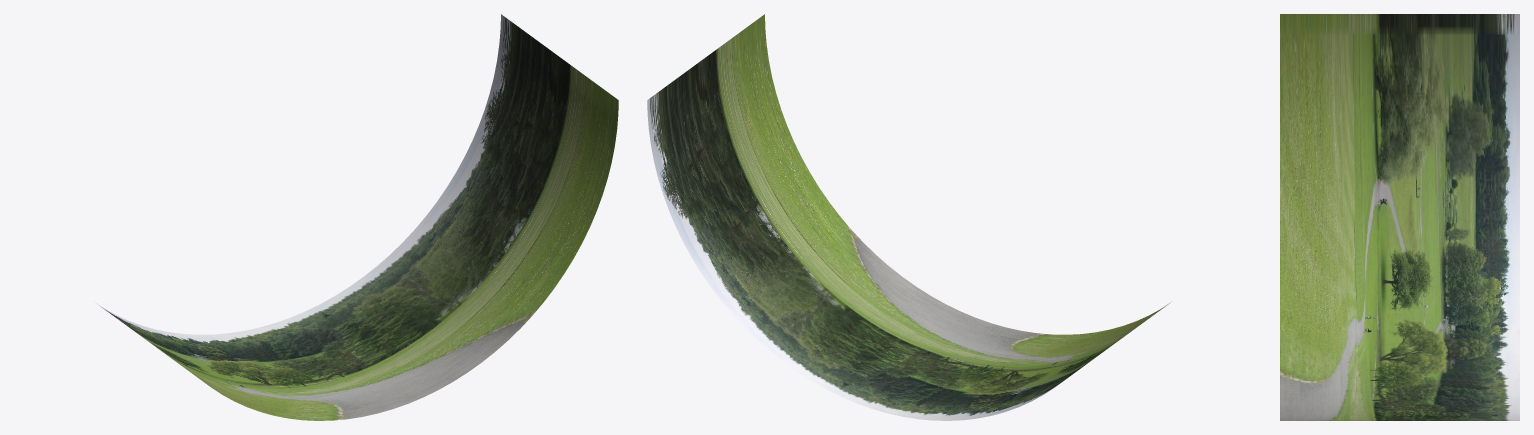
Rendered from leinwand.glb.
3 views of the same model, side by side, from view 1: azimuth 30°, elevation 25°; view 2: azimuth 150°, elevation 25°; view 3: azimuth 270°, elevation 25° (orthographic).
Visible parts, largest first — view 1: Komponente#2; view 2: Komponente#2; view 3: Komponente#2.
Boxes of the visible parts, <box> form: Komponente#2: <box>95,14,618,420</box>; Komponente#2: <box>647,14,1170,420</box>; Komponente#2: <box>1280,14,1519,420</box>.
Size of the model in its own units: 4.44 by 2.22 by 1.86.
Materials: 1 (1 with a texture image).
